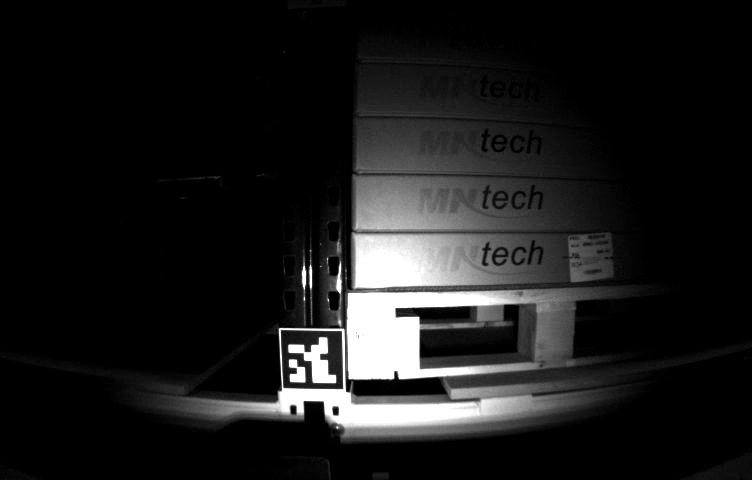True Barcode: (563, 226, 619, 284)
